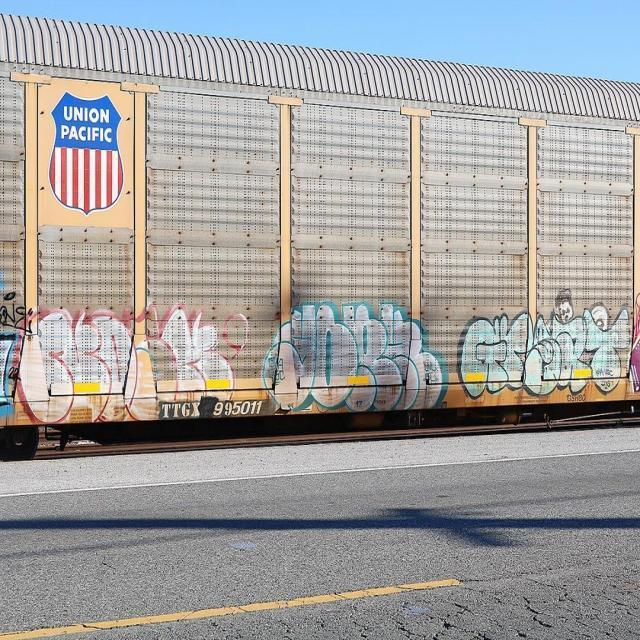-: (3, 309, 260, 438), (268, 290, 450, 430), (454, 294, 636, 409), (160, 393, 274, 424)
